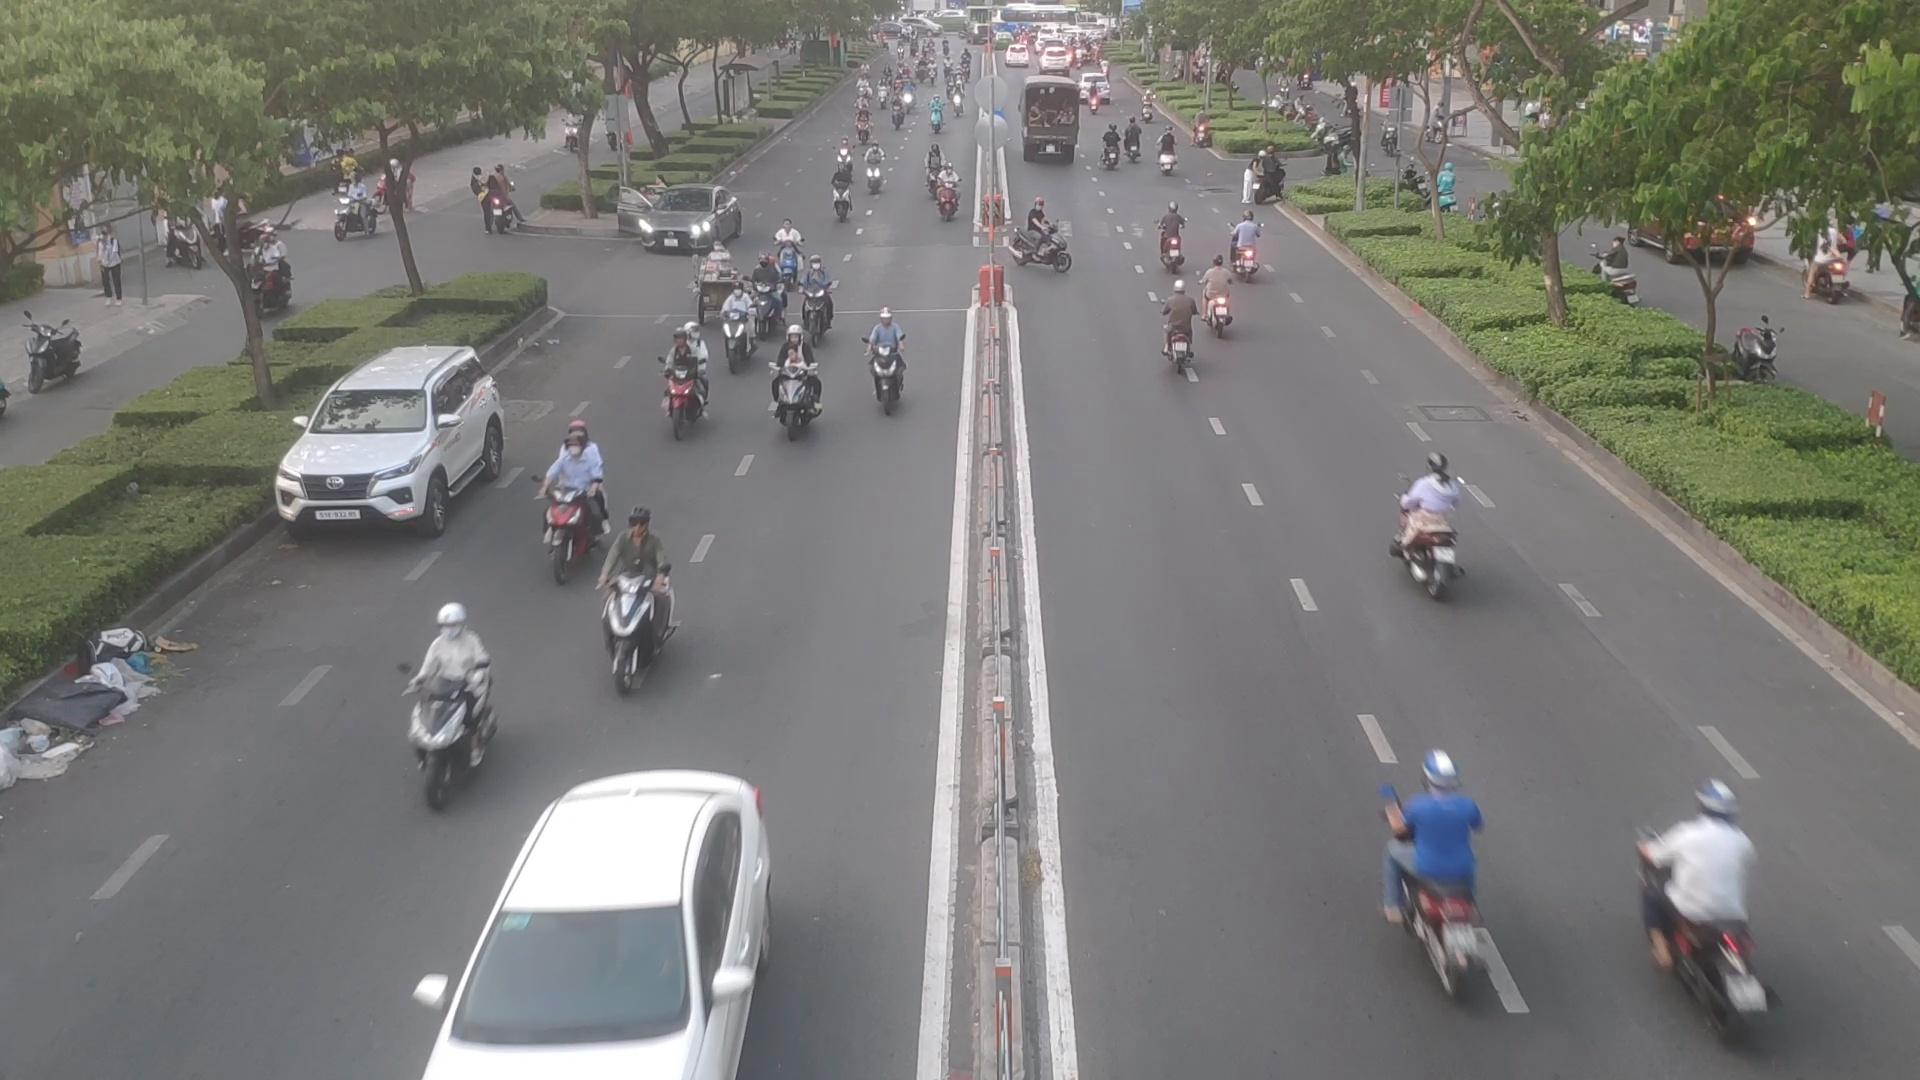car: (443, 774, 769, 1080), (274, 345, 512, 533), (618, 187, 741, 258)
motorbike: (1621, 771, 1776, 1019), (1364, 741, 1514, 997), (589, 496, 683, 684), (409, 601, 491, 783), (1390, 446, 1466, 593), (543, 419, 611, 559), (774, 314, 827, 440), (657, 319, 713, 430), (860, 301, 911, 414), (1156, 273, 1203, 380), (1014, 200, 1069, 284), (1200, 241, 1234, 342), (1230, 214, 1266, 290), (721, 289, 753, 373), (1244, 150, 1288, 210), (750, 261, 787, 324), (1156, 206, 1189, 273), (861, 140, 890, 199), (831, 169, 858, 231), (931, 166, 961, 218), (1098, 124, 1121, 167), (1159, 127, 1178, 171)
